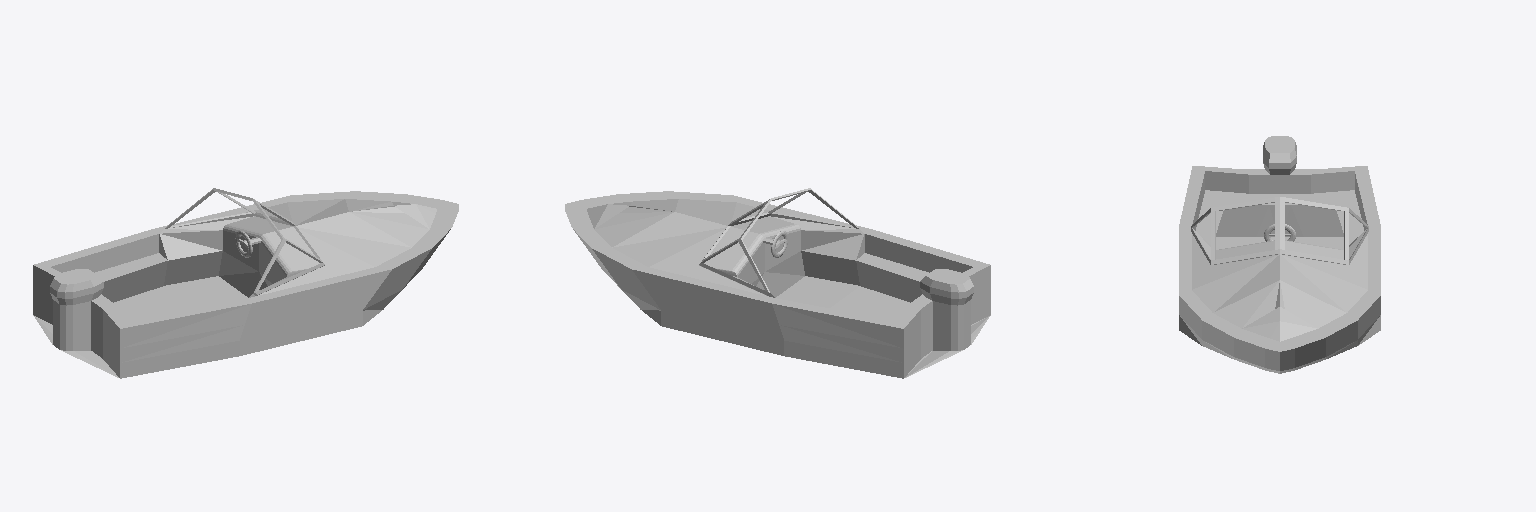
The model's file is boat.obj.
The picture shows the model from 3 angles: view 1: azimuth 30°, elevation 25°; view 2: azimuth 150°, elevation 25°; view 3: azimuth 270°, elevation 25°; orthographic projection.
Visible parts, largest first — view 1: Cube; view 2: Cube; view 3: Cube.
Part boxes in pixels (x1,y1,x2,y2): Cube: (33, 188, 458, 378); Cube: (565, 188, 990, 378); Cube: (1179, 136, 1380, 373).
Size of the model in its own units: 68.69 by 18.79 by 29.69.